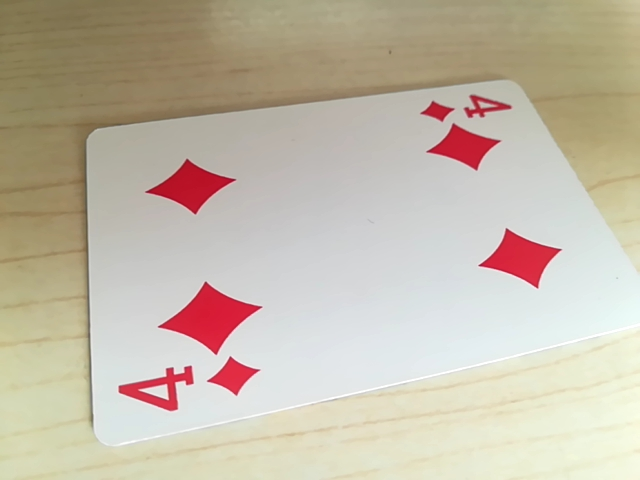fk 4: (109, 353, 260, 426), (419, 89, 516, 127)
